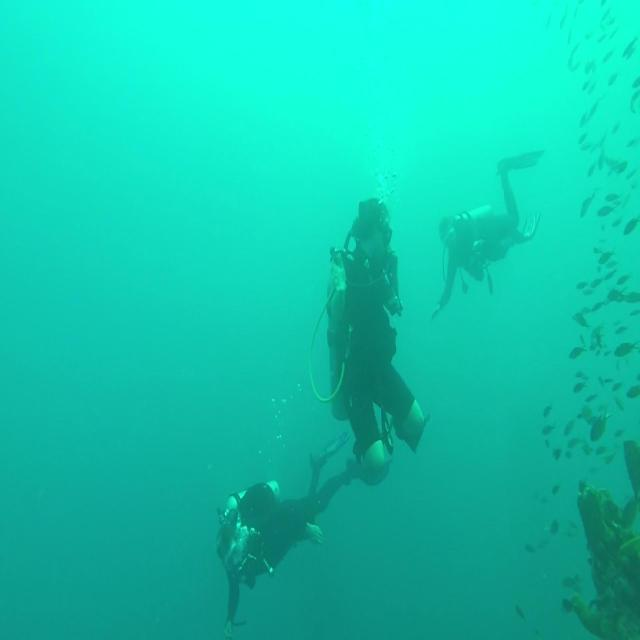human: (323, 195, 429, 486), (215, 430, 357, 636), (430, 146, 545, 322)
